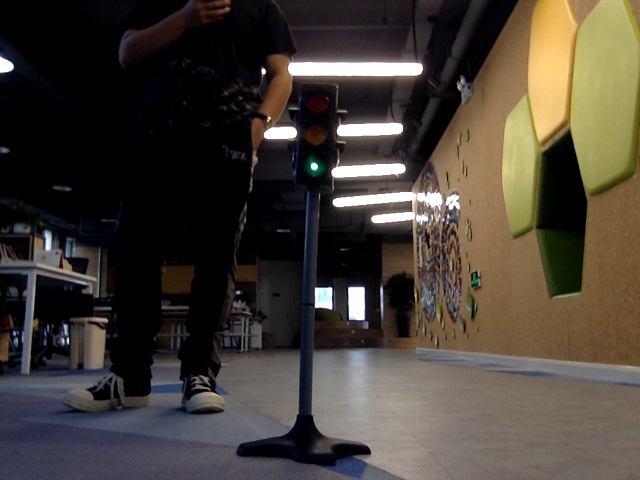green: (300, 92, 331, 179)
